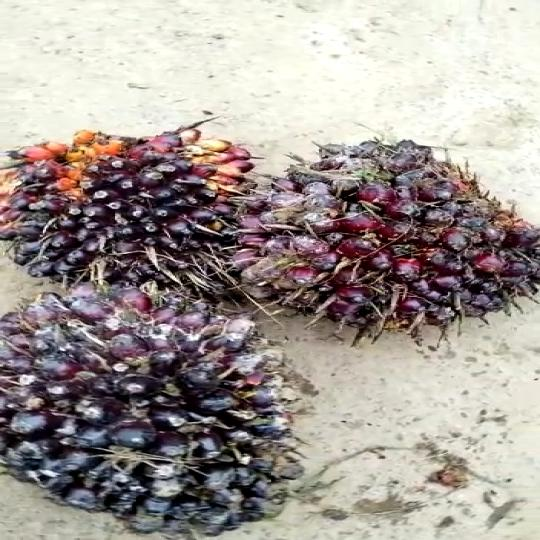kurang masak: (0, 282, 288, 540), (252, 135, 540, 334), (0, 120, 279, 312)
